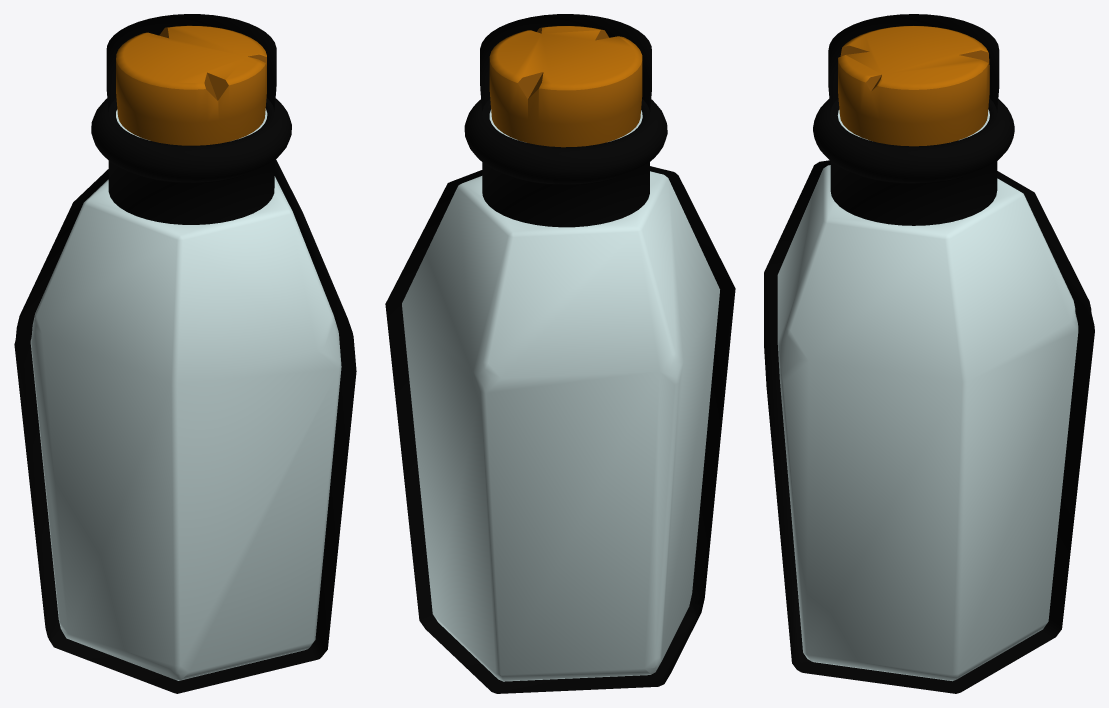
File: PotionCarre.fbx
3 renders of one model, left to right at view 1: azimuth 30°, elevation 25°; view 2: azimuth 150°, elevation 25°; view 3: azimuth 270°, elevation 25°, orthographic.
Visible parts, largest first — view 1: Cylinder, Cylinder.002, Cylinder.001; view 2: Cylinder, Cylinder.002, Cylinder.001; view 3: Cylinder, Cylinder.002, Cylinder.001.
Boxes of the visible parts, x1=… form: Cylinder: x1=30, y1=108, x2=341, y2=680; Cylinder.002: x1=14, y1=14, x2=356, y2=693; Cylinder.001: x1=116, y1=25, x2=266, y2=145; Cylinder: x1=402, y1=109, x2=719, y2=681; Cylinder.002: x1=385, y1=14, x2=735, y2=693; Cylinder.001: x1=489, y1=26, x2=642, y2=147; Cylinder: x1=777, y1=109, x2=1078, y2=681; Cylinder.002: x1=764, y1=14, x2=1094, y2=693; Cylinder.001: x1=838, y1=26, x2=989, y2=146.
Size of the model in its own units: 207 by 388 by 197.
